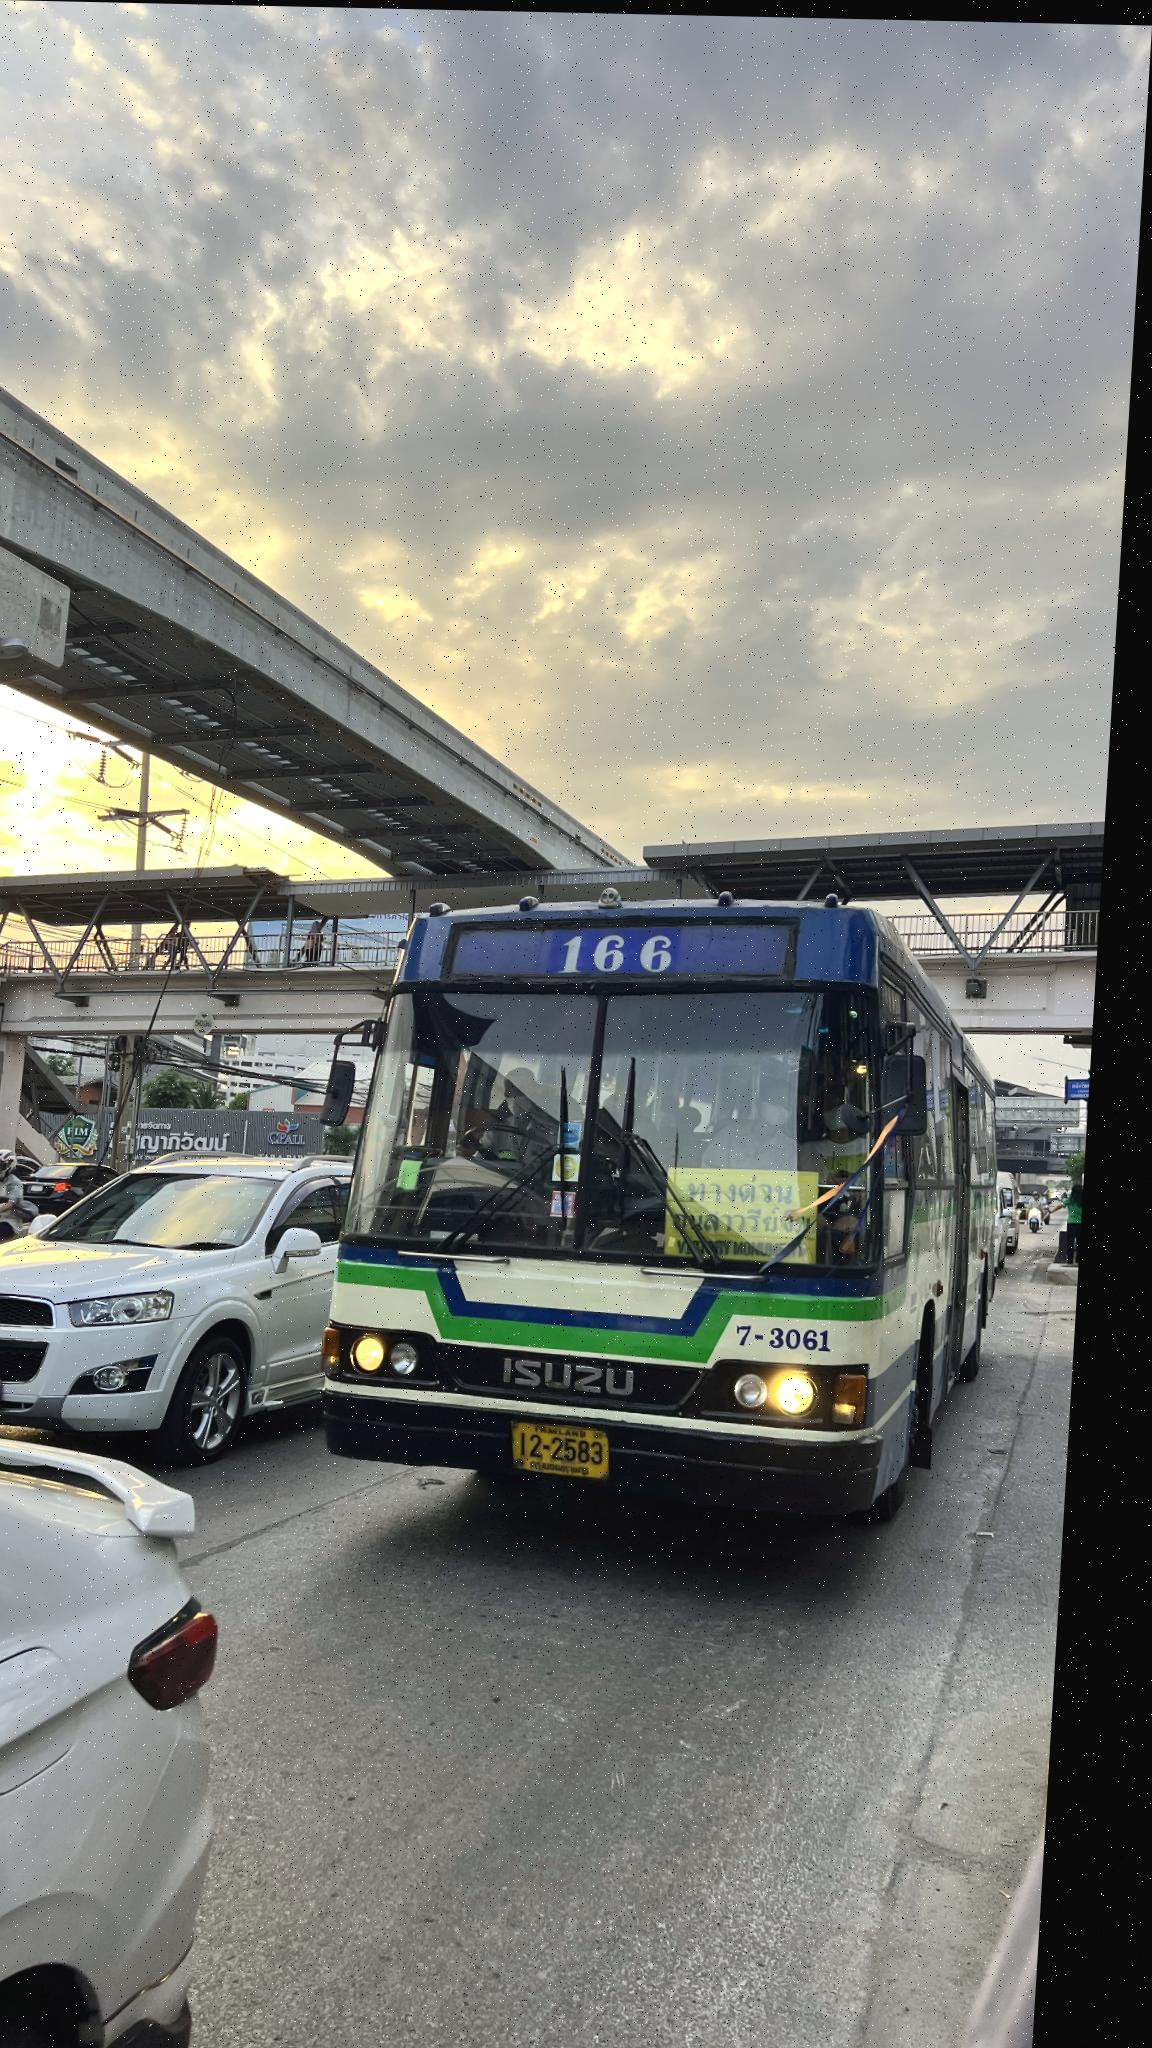BMTA-bus: (338, 897, 1010, 1530)
Bus Line Number: (558, 913, 696, 980)
Bus Side Number: (751, 1312, 854, 1355)
Destination Sign: (677, 1160, 843, 1263)
